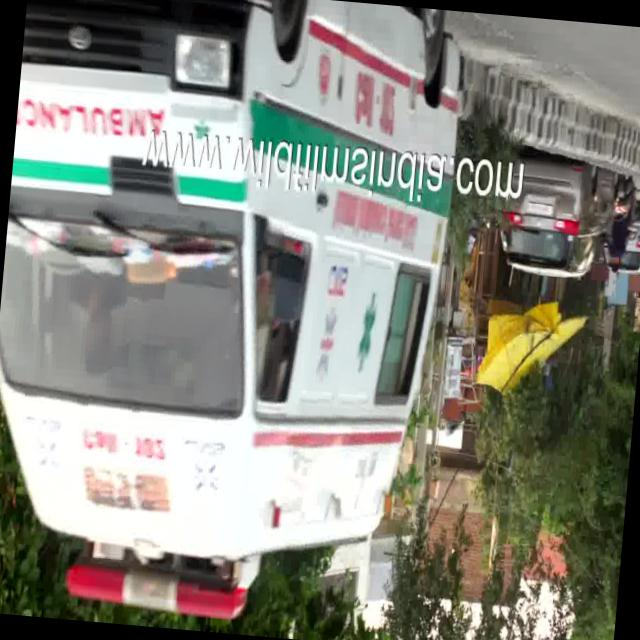ambulance: (0, 108, 468, 628), (39, 1, 457, 103)
